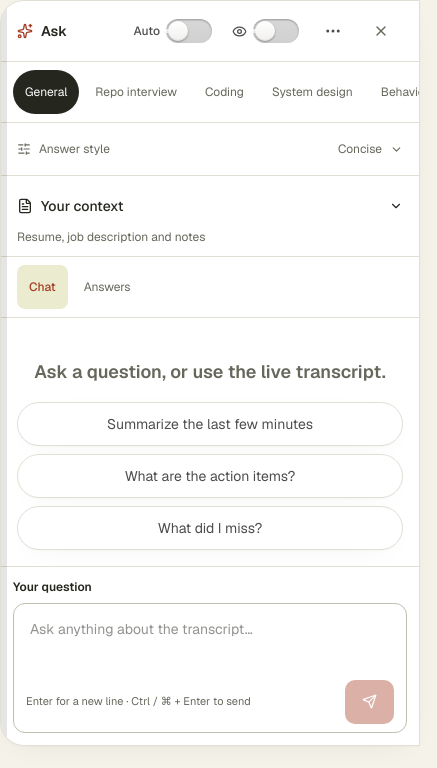
Test: repository interview product journey › surfaces preparation failure and lets the failed ledger question retry manually
The width and height of the screenshot is (437, 768).
Click the button "Repo interview". click: (136, 92)
box: [83,70,189,114]
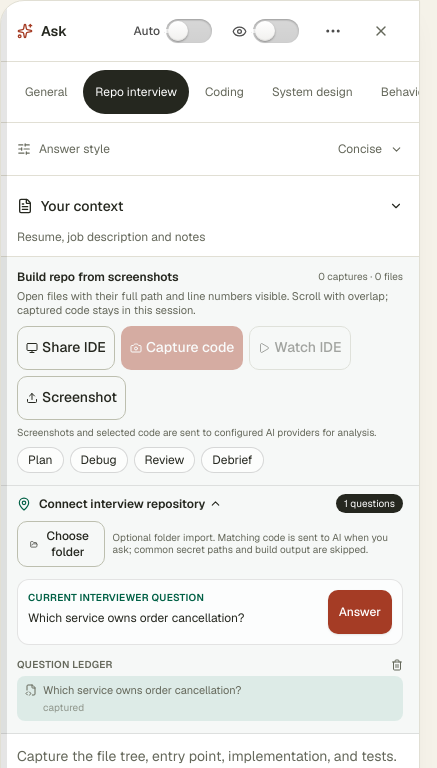
Click the button "Answer". click: (360, 612)
box: [328,590,392,634]
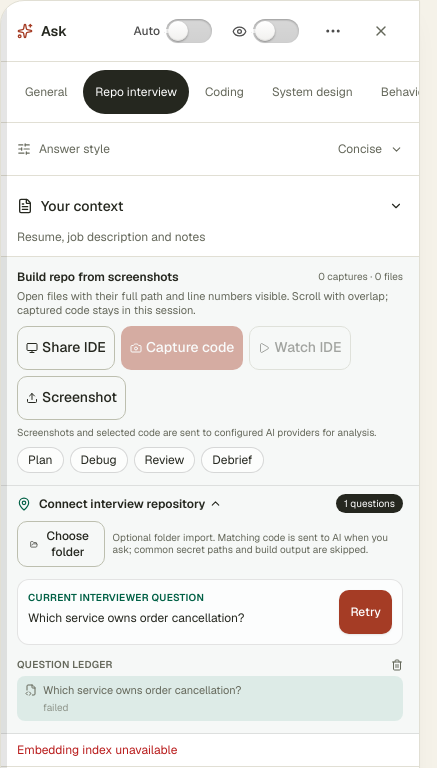
Result: the message reads "Embedding index unavailable" at [17,742,177,758]
Result: the text "failed" is shown at [43,701,68,714]
Click the button "Retry". click: (366, 612)
box: [339,590,392,634]
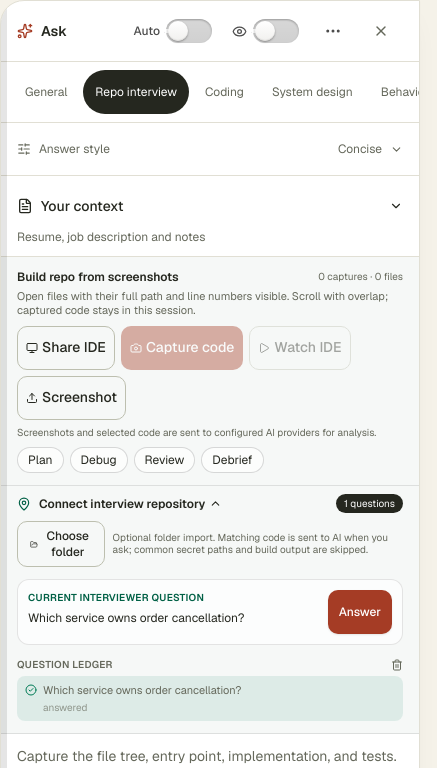
Result: the text "Which service owns order cancellation?" below "Current interviewer question" is shown at [28,610,245,626]
Result: the text "Embedding index unavailable" is gone
